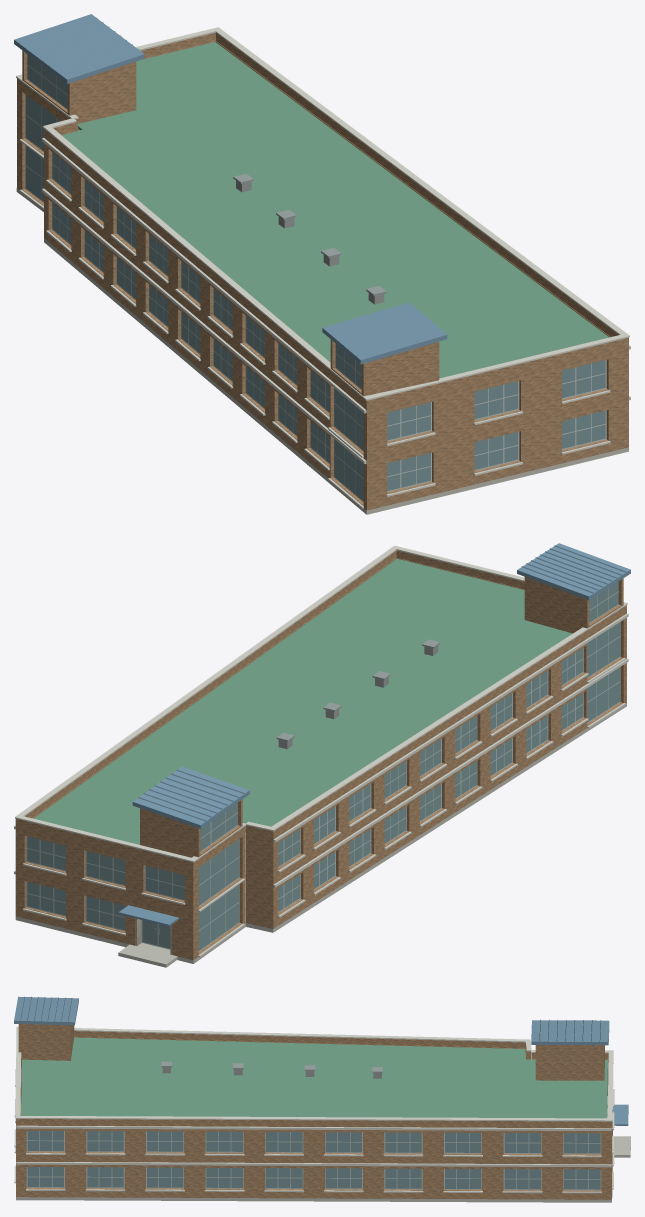
3 views of the same model, one above another, from view 1: azimuth 30°, elevation 25°; view 2: azimuth 150°, elevation 25°; view 3: azimuth 270°, elevation 25° (orthographic). The views are drawn at different scales.
Visible parts, largest first — view 1: mido__roof, mido__brick, mido__glass, mido__white, mido__blue, mido__frame, mido__threshold-entry; view 2: mido__roof, mido__brick, mido__glass, mido__white, mido__blue, mido__frame, mido__threshold-entry; view 3: mido__roof, mido__brick, mido__glass, mido__white, mido__frame, mido__blue, mido__threshold-entry.
Boxes of the visible parts, x1=… form: mido__roof: x1=62, y1=42, x2=609, y2=378; mido__brick: x1=17, y1=32, x2=628, y2=510; mido__glass: x1=26, y1=54, x2=605, y2=500; mido__white: x1=16, y1=27, x2=630, y2=508; mido__blue: x1=14, y1=14, x2=447, y2=364; mido__frame: x1=25, y1=64, x2=606, y2=501; mido__threshold-entry: x1=16, y1=188, x2=628, y2=514; mido__roof: x1=34, y1=558, x2=572, y2=844; mido__brick: x1=15, y1=550, x2=626, y2=959; mido__glass: x1=27, y1=581, x2=620, y2=950; mido__white: x1=14, y1=545, x2=628, y2=957; mido__blue: x1=118, y1=543, x2=630, y2=926; mido__frame: x1=26, y1=588, x2=620, y2=951; mido__threshold-entry: x1=15, y1=703, x2=626, y2=967; mido__roof: x1=21, y1=1037, x2=607, y2=1118; mido__brick: x1=16, y1=1024, x2=612, y2=1199; mido__glass: x1=27, y1=1131, x2=600, y2=1189; mido__white: x1=14, y1=1026, x2=614, y2=1193; mido__frame: x1=26, y1=1131, x2=601, y2=1190; mido__blue: x1=14, y1=996, x2=628, y2=1125; mido__threshold-entry: x1=16, y1=1136, x2=630, y2=1202.
Bounding box in the file's own units: 19.98 × 11.3 × 54.22.
Materials: 11 (2 with a texture image).
